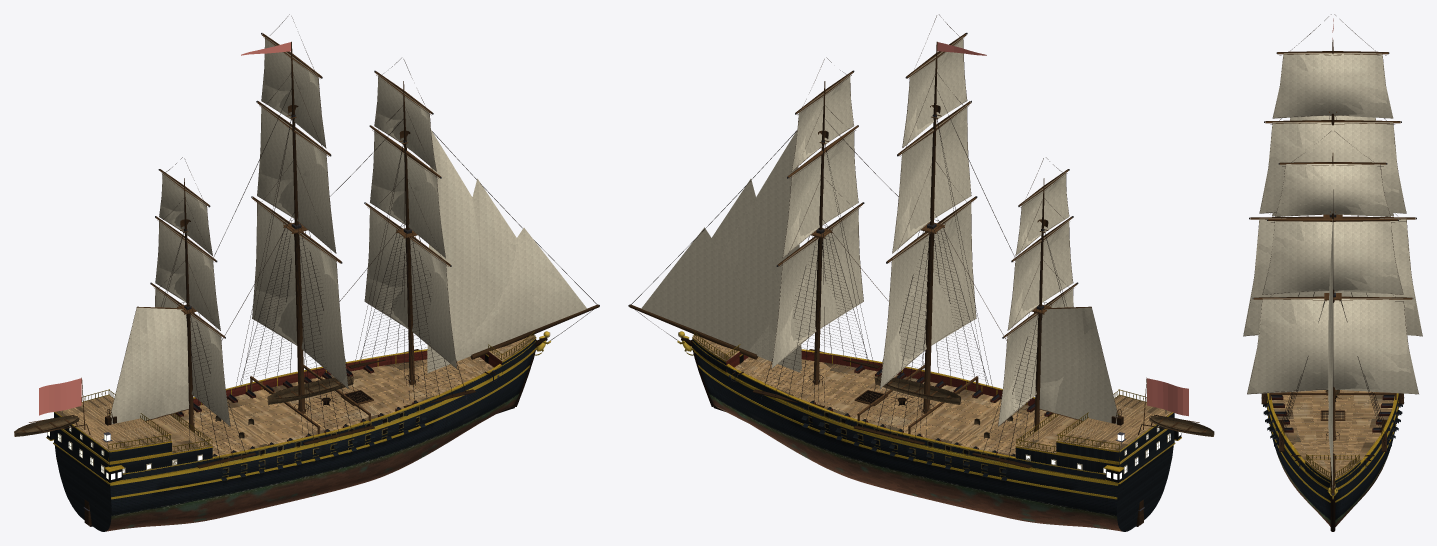
The model's file is battleship.glb.
The picture shows the model from 3 angles, left to right: view 1: azimuth 30°, elevation 25°; view 2: azimuth 150°, elevation 25°; view 3: azimuth 270°, elevation 25°; orthographic projection. The views are drawn at different scales.
Parts seen in each view (by area): view 1: LOD0_Body, LOD0_Wood, LOD2_m1_SquareSail, LOD0_Jib, LOD2_m0_SquareSail, LOD2_Body, LOD2_m2_SquareSail, LOD0_m2_AftSail, LOD1_Wood, LOD1_Body, LOD2_Wood, LOD0_m1_SquareSail (+11 smaller); view 2: LOD0_Body, LOD0_Wood, LOD2_m1_SquareSail, LOD2_Jib, LOD2_m0_SquareSail, LOD2_Body, LOD2_m2_SquareSail, LOD2_m2_AftSail, LOD1_Body, LOD2_Wood, LOD1_Wood, LOD0_m1_SquareSail (+11 smaller); view 3: LOD0_m0_SquareSail, LOD0_m1_SquareSail, LOD2_Body, LOD0_Body, LOD0_Wood, LOD1_m0_SquareSail, LOD2_m0_SquareSail, LOD1_m1_SquareSail, LOD2_m1_SquareSail, LOD2_m1_SquareYards, LOD0_Jib, LOD2_m0_SquareYards (+8 smaller).
Part boxes in pixels (x1,y1,x2,y2): LOD0_Body: [62, 136, 550, 531]; LOD0_Wood: [14, 41, 599, 531]; LOD2_m1_SquareSail: [252, 38, 347, 384]; LOD0_Jib: [427, 130, 579, 372]; LOD2_m0_SquareSail: [365, 75, 456, 368]; LOD2_Body: [108, 335, 535, 530]; LOD2_m2_SquareSail: [156, 172, 230, 425]; LOD0_m2_AftSail: [110, 308, 188, 424]; LOD1_Wood: [55, 109, 598, 531]; LOD1_Body: [56, 335, 534, 531]; LOD2_Wood: [61, 110, 536, 521]; LOD0_m1_SquareSail: [252, 37, 348, 388]; LOD0_Body: [677, 138, 1166, 531]; LOD0_Wood: [628, 41, 1214, 531]; LOD2_m1_SquareSail: [881, 44, 975, 385]; LOD2_Jib: [641, 131, 799, 372]; LOD2_m0_SquareSail: [773, 81, 863, 364]; LOD2_Body: [692, 335, 1120, 530]; LOD2_m2_SquareSail: [999, 173, 1073, 421]; LOD2_m2_AftSail: [1040, 308, 1117, 423]; LOD1_Body: [693, 335, 1171, 531]; LOD2_Wood: [641, 112, 1167, 521]; LOD1_Wood: [630, 119, 1173, 531]; LOD0_m1_SquareSail: [880, 37, 976, 388]; LOD0_m0_SquareSail: [1247, 164, 1410, 393]; LOD0_m1_SquareSail: [1246, 53, 1413, 334]; LOD2_Body: [1272, 390, 1393, 526]; LOD0_Body: [1263, 393, 1404, 526]; LOD0_Wood: [1261, 40, 1403, 531]; LOD1_m0_SquareSail: [1247, 164, 1411, 394]; LOD2_m0_SquareSail: [1248, 164, 1418, 394]; LOD1_m1_SquareSail: [1243, 53, 1415, 336]; LOD2_m1_SquareSail: [1244, 53, 1422, 336]; LOD2_m1_SquareYards: [1250, 52, 1415, 219]; LOD0_Jib: [1328, 219, 1332, 459]; LOD2_m0_SquareYards: [1253, 162, 1412, 300].
Bounding box in the file's own units: 88.28 × 68.45 × 25.27.
5 materials, 3 textured.
